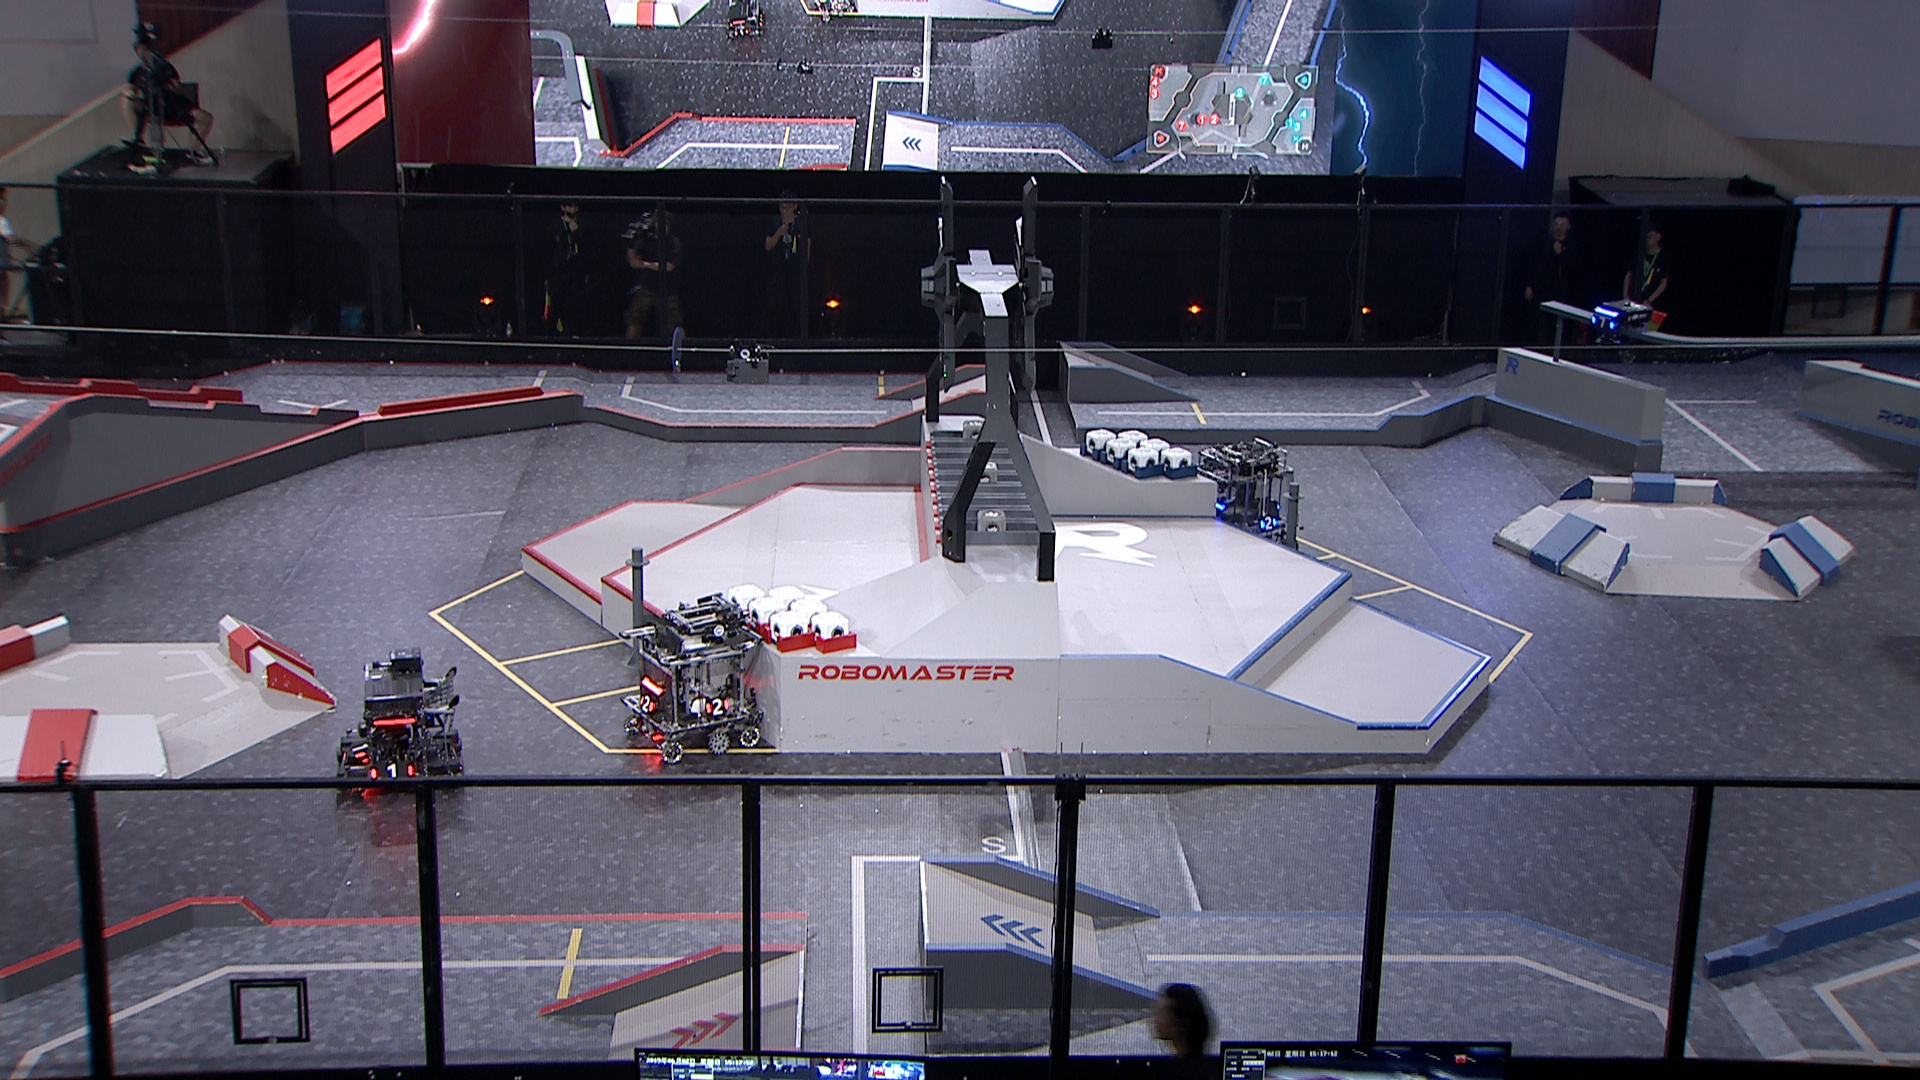armor: (367, 760, 414, 783), (705, 695, 731, 713), (348, 740, 371, 760), (1589, 314, 1615, 330), (638, 694, 655, 713), (334, 752, 349, 773), (1258, 516, 1276, 533)
car: (618, 595, 767, 761), (328, 647, 468, 799), (1187, 436, 1298, 549)
watcher: (1586, 301, 1652, 367)
